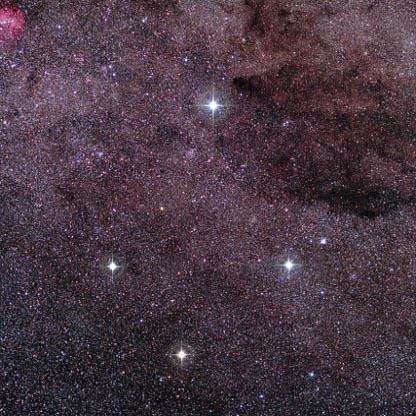Southern Cross: (90, 245, 137, 286), (158, 332, 203, 369), (268, 235, 305, 280), (190, 88, 231, 124)
